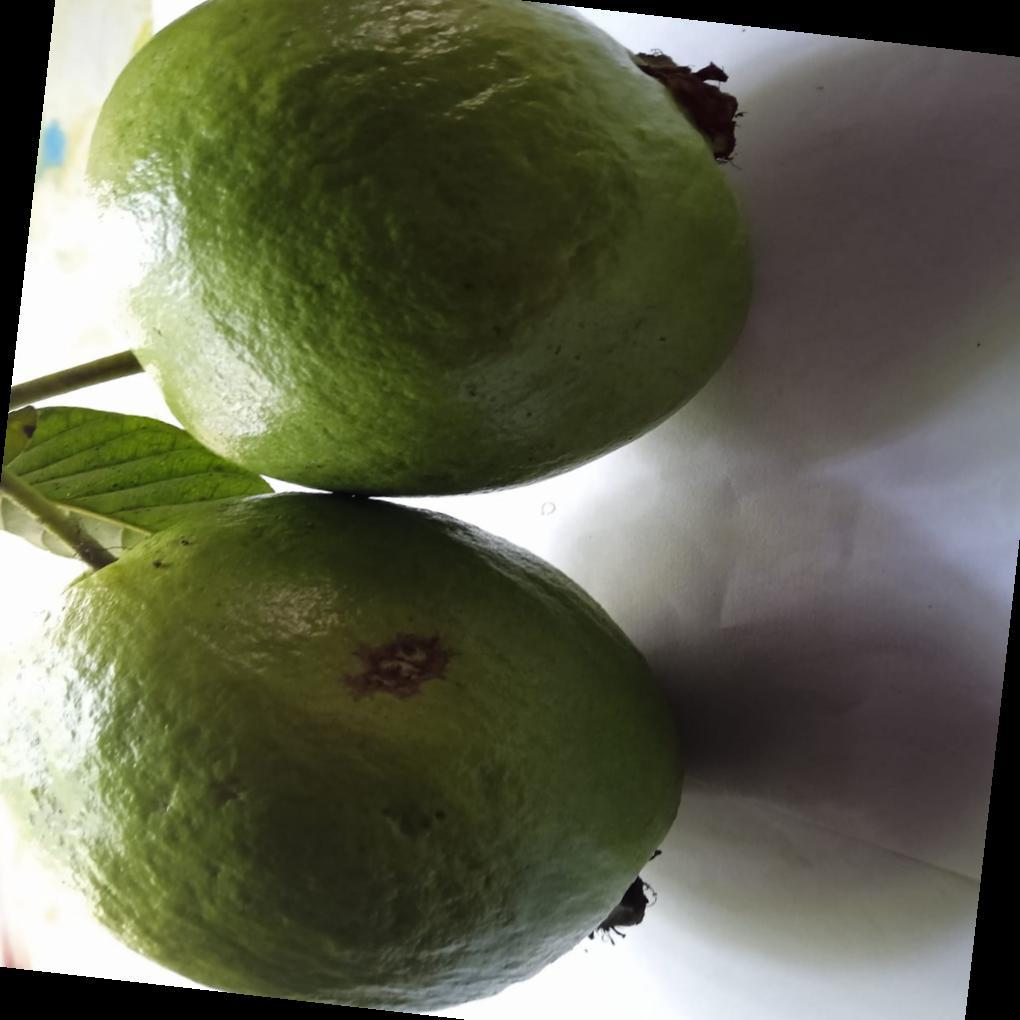FreshGuava: (0, 0, 756, 1020)
